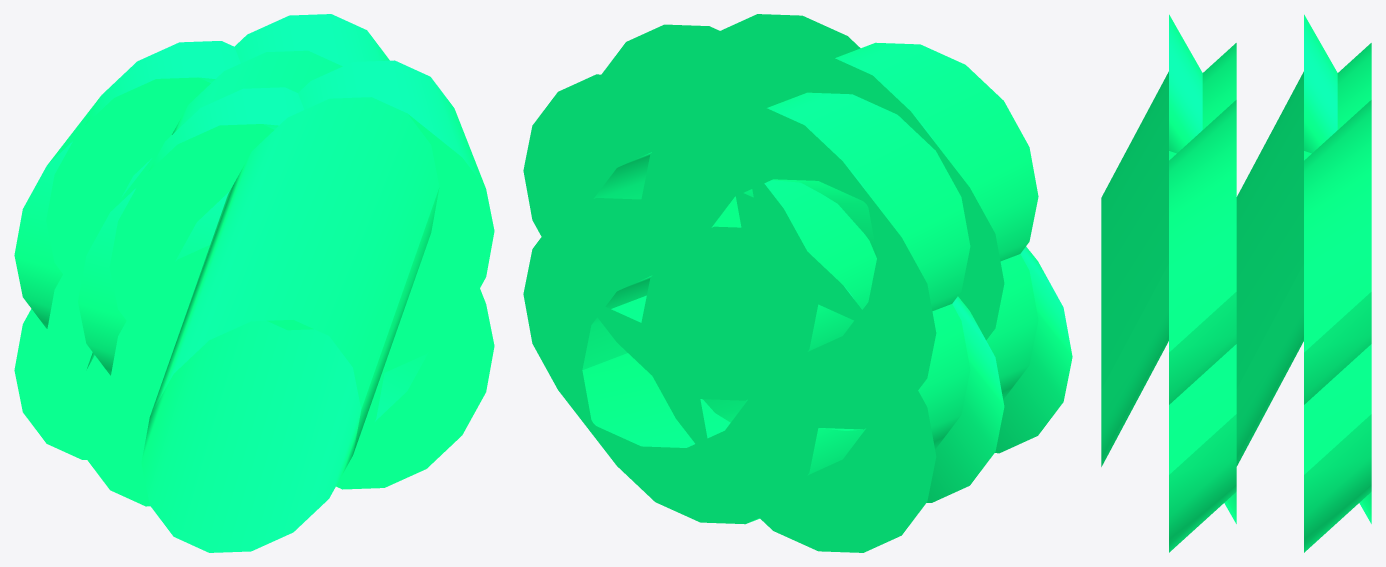
File: crystal_lattice_fcc_ar_universal.glb
3 views of the same model, side by side, from view 1: azimuth 30°, elevation 25°; view 2: azimuth 150°, elevation 25°; view 3: azimuth 270°, elevation 25° (orthographic). The views are drawn at different scales.
Visible parts, largest first — view 1: crystal_lattice_fcc_ar; view 2: crystal_lattice_fcc_ar; view 3: crystal_lattice_fcc_ar.
Part boxes in pixels (<box>): crystal_lattice_fcc_ar: <box>14,14,494,552</box>; crystal_lattice_fcc_ar: <box>523,14,1072,552</box>; crystal_lattice_fcc_ar: <box>1101,14,1371,552</box>.
Bounding box in the file's own units: 1 × 1 × 0.5714.
